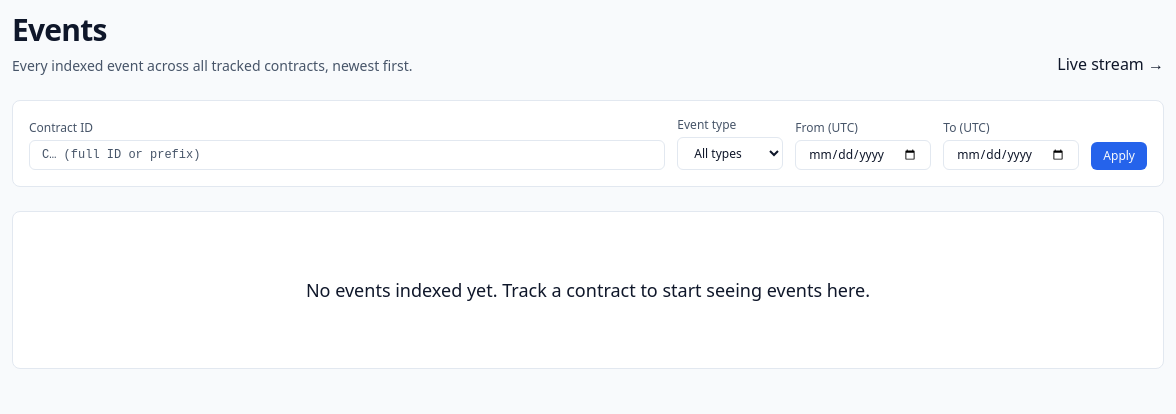
it: EventsExplorerPage › blocks an inverted date range
Expected: the text "No events indexed yet" is shown, x1=306 y1=278 x2=498 y2=302
Step 1. Type "2026-09-05" into the date field labelled "From (UTC)" → (863, 155), box x1=795 y1=140 x2=931 y2=170
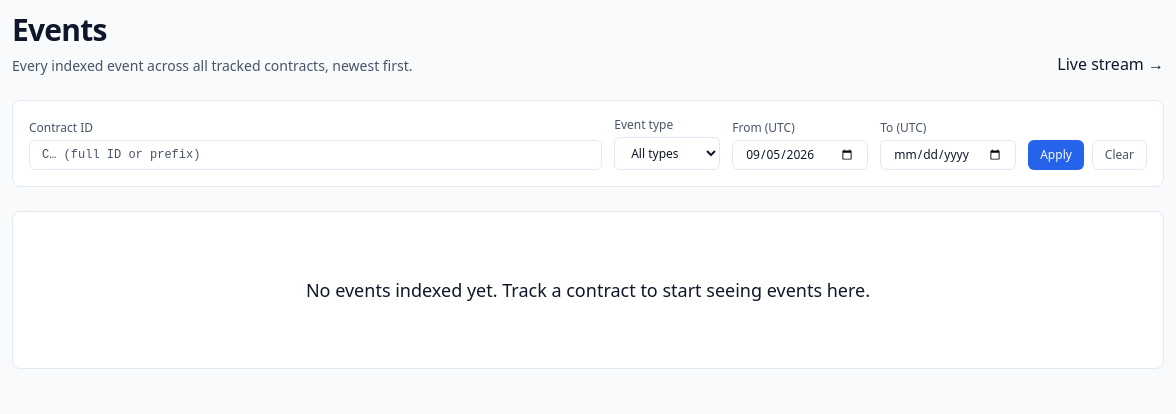
Step 2. Type "2026-09-01" into the date field labelled "To (UTC)" → (948, 155), box x1=880 y1=140 x2=1016 y2=170
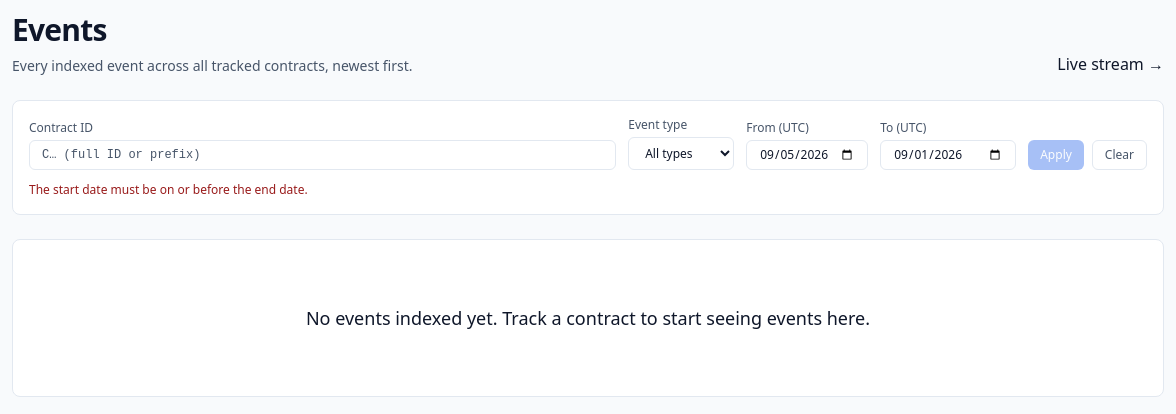
Now the message "The start date must be on or before the end date." is shown, box x1=29 y1=181 x2=308 y2=198
Now the button "Apply" is disabled, box x1=1028 y1=140 x2=1084 y2=170
